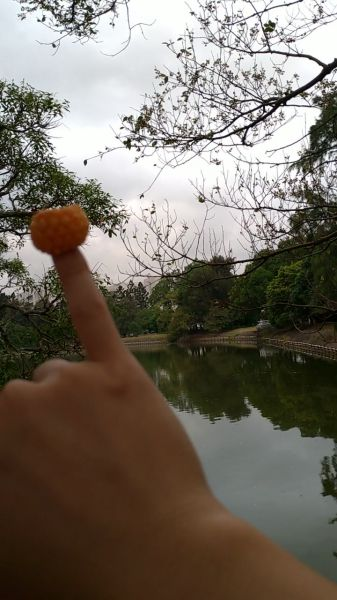eggs: (30, 203, 90, 253)
